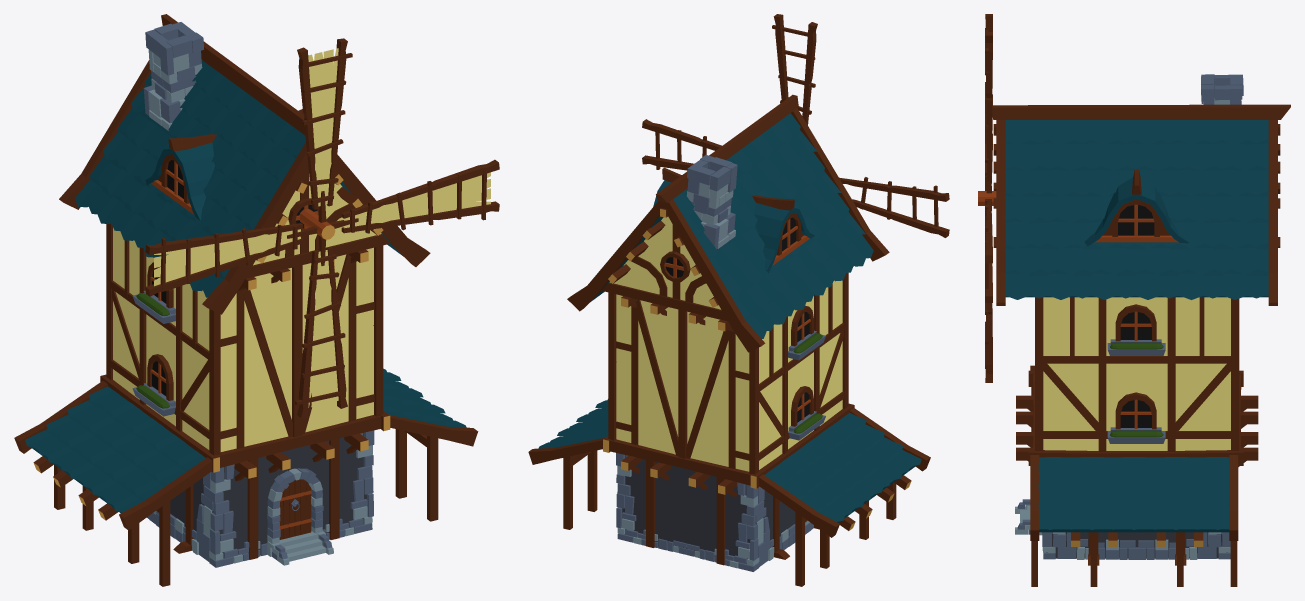
Rendered from Village_Mill.glb.
The picture shows the model from 3 angles, left to right: view 1: azimuth 30°, elevation 25°; view 2: azimuth 150°, elevation 25°; view 3: azimuth 270°, elevation 25°; orthographic projection. The views are drawn at different scales.
Visible parts, largest first — view 1: Mill, Mill_Blades; view 2: Mill, Mill_Blades; view 3: Mill, Mill_Blades.
Part boxes in pixels (x1,y1,x2,y2): Mill: [14, 14, 478, 586]; Mill_Blades: [145, 38, 499, 417]; Mill: [528, 94, 930, 586]; Mill_Blades: [642, 14, 949, 237]; Mill: [992, 74, 1290, 586]; Mill_Blades: [978, 14, 996, 382].
Size of the model in its own units: 340 by 480 by 273.
